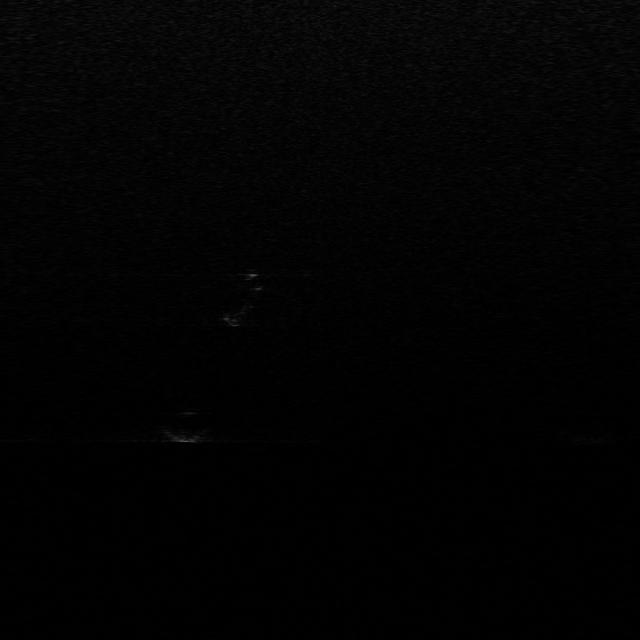ball: (157, 406, 216, 444)
tyre: (226, 265, 264, 330)
